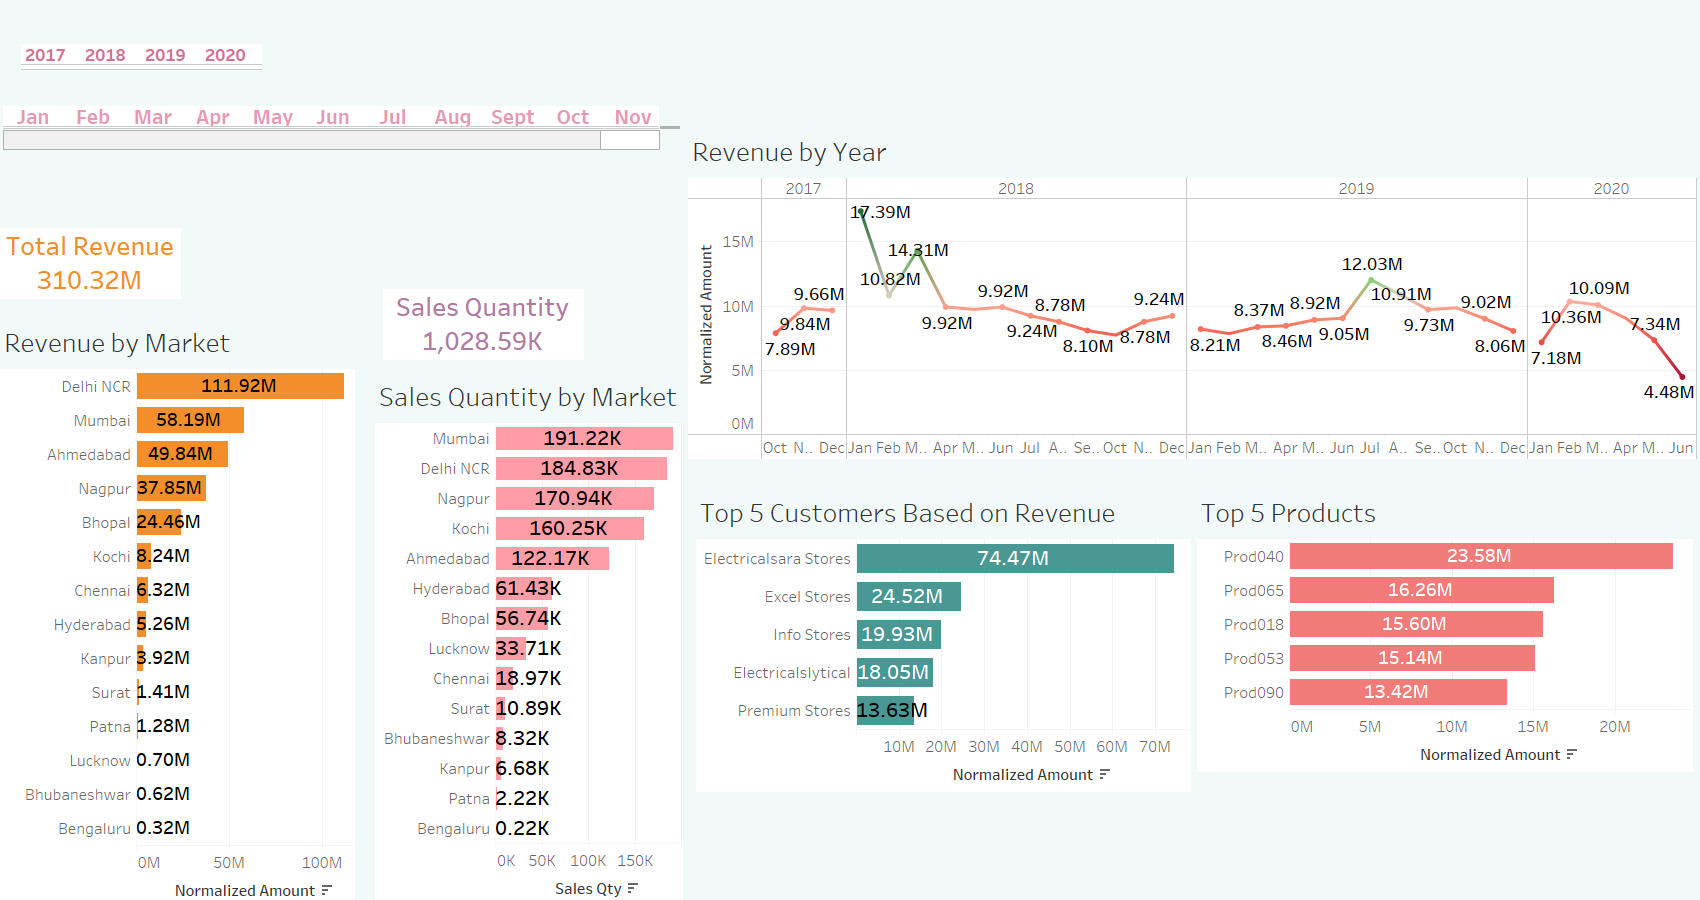

The page's visual inventory and layout, read from the dashboard file:
{"tool":"tableau","page":{"name":"Dashboard 1","canvas":[1700,900],"ordinal":0},"visuals":[{"type":"worksheet","title":"Year","mark":"Automatic","cols":["cy_date"],"box":[21,29,249,66]},{"type":"worksheet","title":"Month","mark":"Automatic","cols":["cy_date"],"box":[3,91,677,59]},{"type":"worksheet","title":"Revenue by Year","mark":"Automatic","rows":["Calculation_539306122452738050"],"cols":["cy_date","cy_date"],"box":[688,128,1010,332]},{"type":"worksheet","title":"Revenue","mark":"Automatic","box":[0,213,199,102]},{"type":"worksheet","title":"Quantity","mark":"Automatic","box":[383,274,213,93]},{"type":"worksheet","title":"Top 5 Customers Based on Revenue","mark":"Automatic","rows":["custmer_name"],"cols":["Calculation_539306122452738050"],"box":[696,489,494,359]},{"type":"worksheet","title":"Top 5 Products Based on Revenue","mark":"Automatic","rows":["product_code"],"cols":["Calculation_539306122452738050"],"box":[1197,489,495,322]}]}

Visuals, with their boxes in screenshot pixels (x1, y1, x2, y2), scaled from the page's 1700x900 canvas onto the 1700x900 screenshot:
"Year" worksheet: (21, 29, 270, 95)
"Month" worksheet: (3, 91, 680, 150)
"Revenue by Year" worksheet: (688, 128, 1698, 460)
"Revenue" worksheet: (0, 213, 199, 315)
"Quantity" worksheet: (383, 274, 596, 367)
"Top 5 Customers Based on Revenue" worksheet: (696, 489, 1190, 848)
"Top 5 Products Based on Revenue" worksheet: (1197, 489, 1692, 811)
